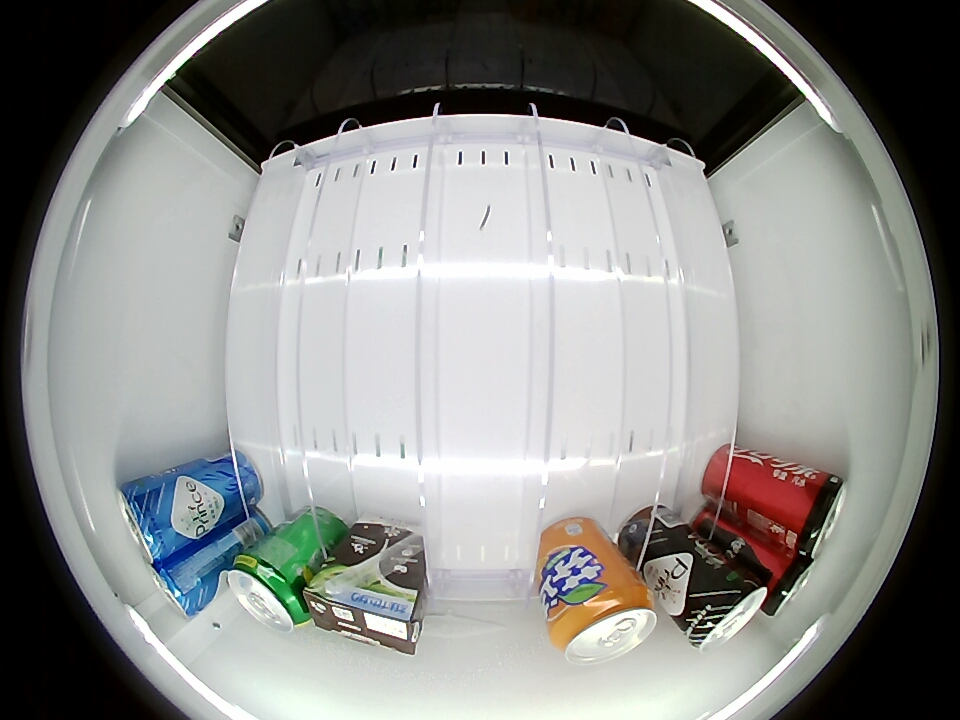fenda: (549, 582, 657, 665)
lingdukele: (776, 467, 847, 561), (764, 552, 817, 617)
qingdaowangzi-1: (680, 561, 770, 651)
qingdaowangzi-2: (116, 474, 182, 564), (144, 553, 217, 617)
weitanai2: (304, 569, 424, 655)
xuebi2: (225, 552, 311, 632)
